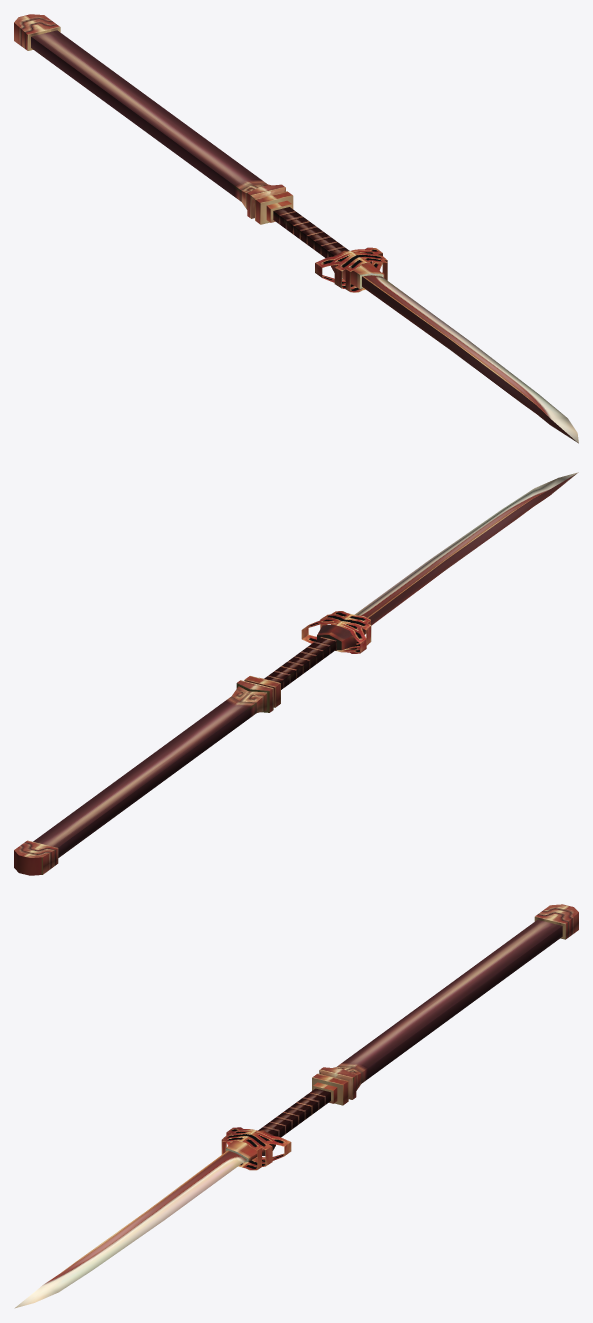
3 renders of one model, top to bottom at view 1: azimuth 30°, elevation 25°; view 2: azimuth 150°, elevation 25°; view 3: azimuth 330°, elevation 25°, orthographic. The views are drawn at different scales.
Parts seen in each view (by area): view 1: W901a; view 2: W901a; view 3: W901a.
Boxes of the visible parts, x1,y1,x2,y2 form: W901a: (14,14,578,443); W901a: (14,472,578,875); W901a: (14,904,578,1308).
Size of the model in its own units: 3.08 by 1.29 by 49.52.
Materials: 2 (2 with a texture image).
